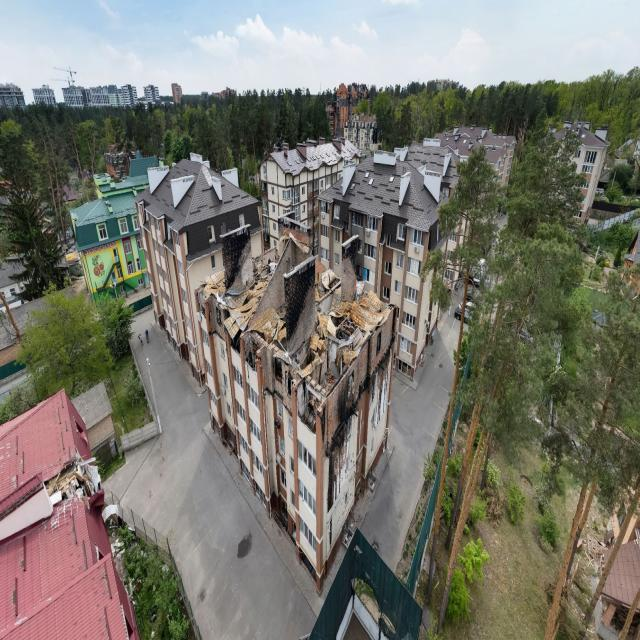building: (196, 230, 398, 595), (0, 386, 141, 639), (135, 156, 264, 384), (541, 120, 610, 227)
